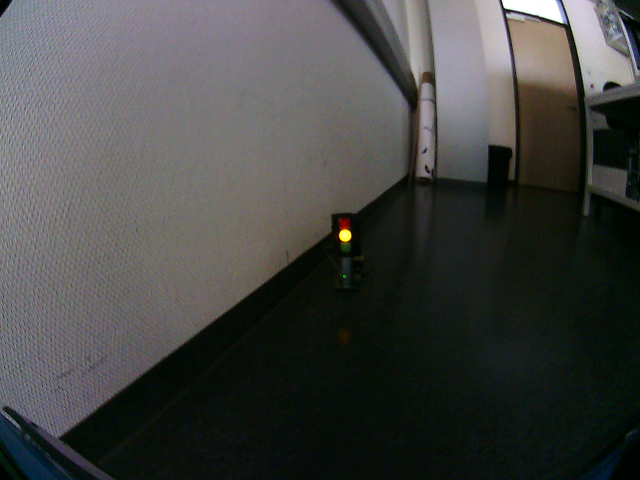yellow trafficlight: (334, 215, 356, 254)
